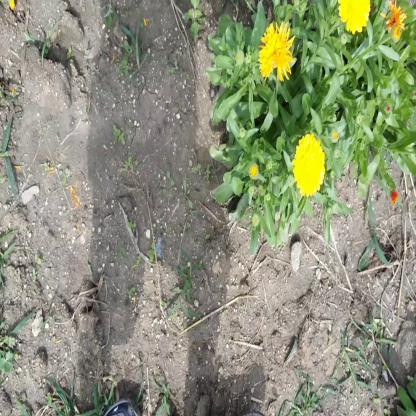marigold: (258, 20, 297, 81), (294, 132, 326, 196), (338, 0, 370, 33)
